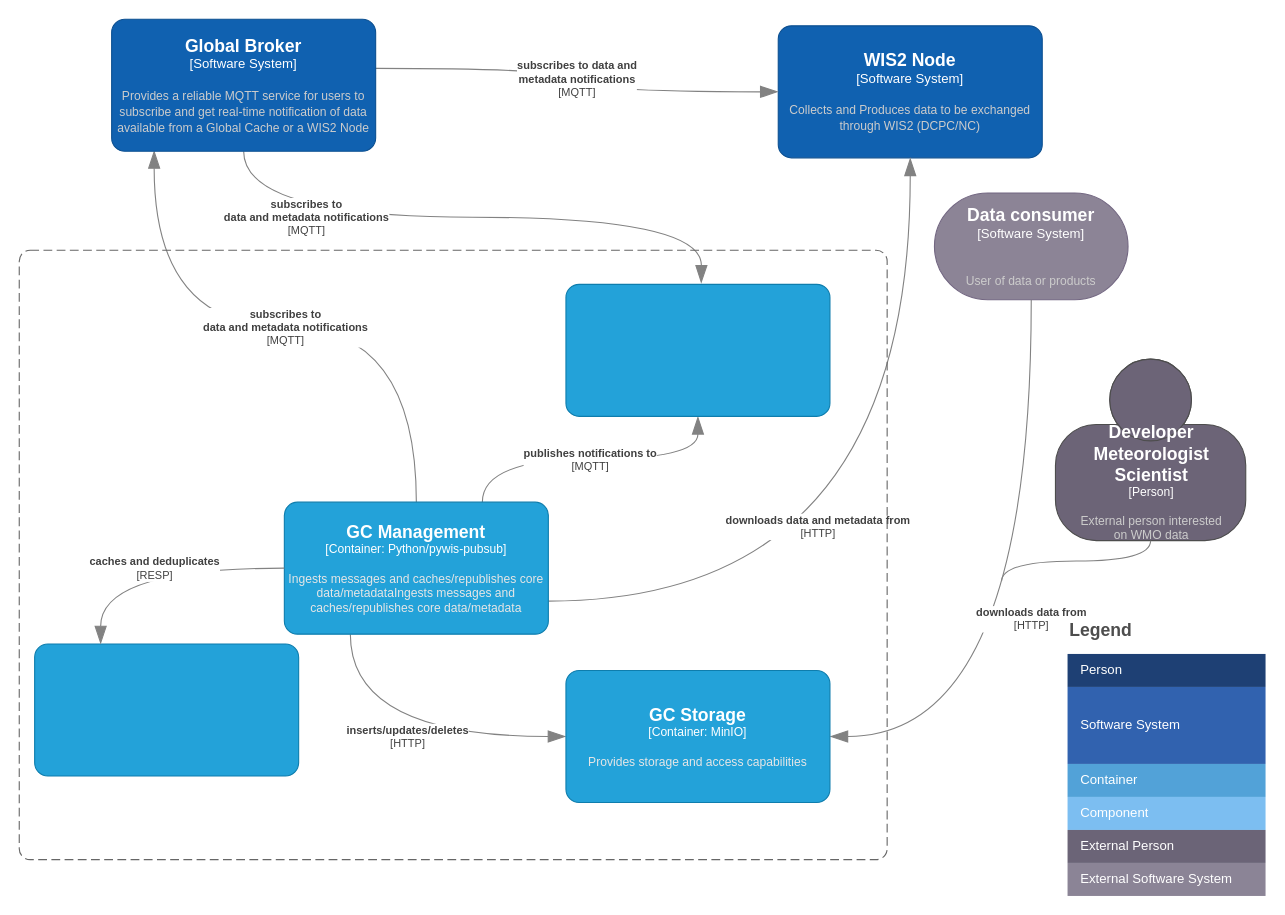
This 1285x915 diagram has some shape labels left out. The shapes that lost their labels are listed below. From the top down, each one's box as (x1, y1, x2, y2) in pixels, then its label:
(565, 283, 830, 416): GC Broker [Container: mosquitto] Provides Pub/Sub capability
(18, 249, 887, 860): Global Cache [Software System]
(34, 643, 299, 776): GC Cache [Container: Redis] Provides cache service to support deduplication
